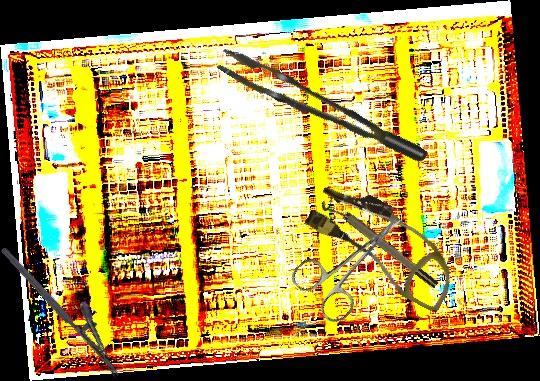Cannula: (295, 174, 472, 314)
Fixation Ring: (318, 191, 441, 296)
Iris Scissors: (287, 194, 425, 328)
Needle Holder: (0, 231, 137, 379)
Tissue Forceps: (213, 28, 429, 190)
